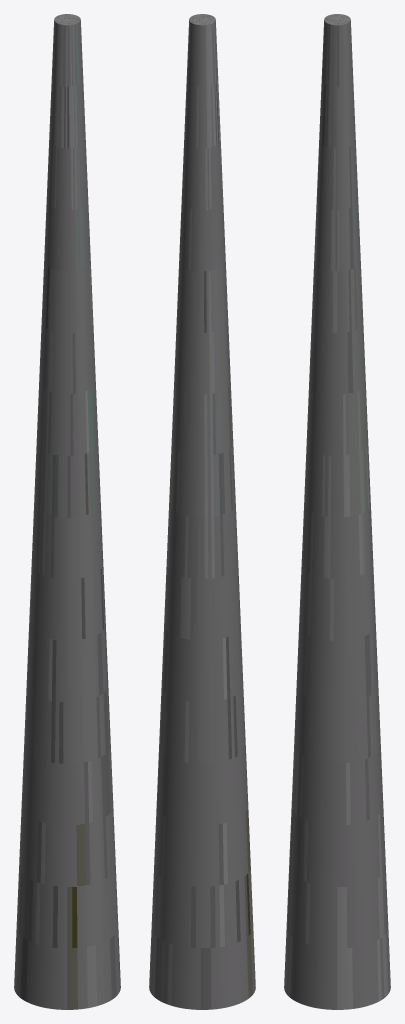
File: light_lamp.glb
3 views of the same model, side by side, from view 1: azimuth 90°, elevation 25°; view 2: azimuth 150°, elevation 25°; view 3: azimuth 270°, elevation 25° (orthographic).
Parts seen in each view (by area): view 1: MeshInstance3D; view 2: MeshInstance3D; view 3: MeshInstance3D.
Part boxes in pixels (left/top/right/bottom): MeshInstance3D: left=14, top=14, right=120, bottom=1009; MeshInstance3D: left=149, top=14, right=255, bottom=1009; MeshInstance3D: left=284, top=14, right=390, bottom=1009.
Size of the model in its own units: 0.2 by 2 by 0.2.
1 material, 1 textured.
